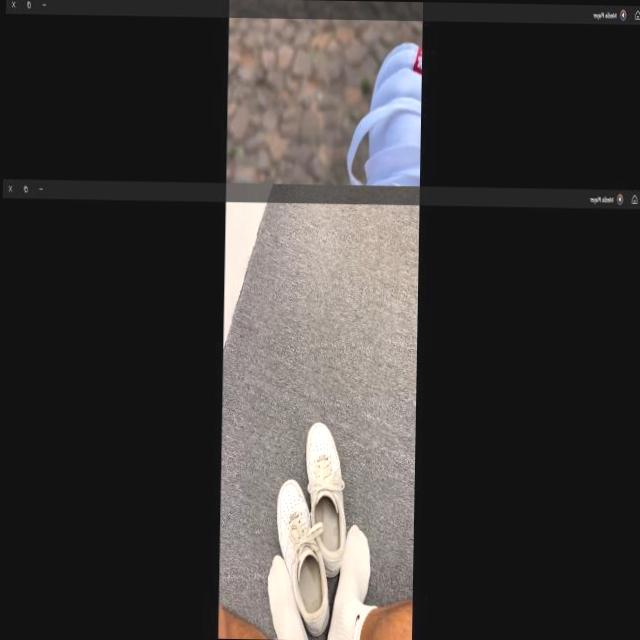nike_original_airforce: (274, 478, 332, 637), (303, 422, 348, 578)
